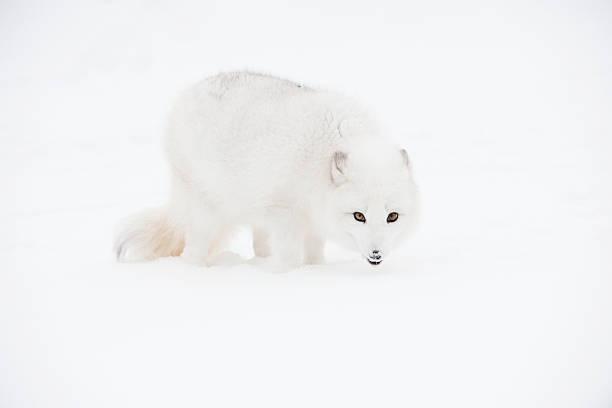arcticfox: (330, 173, 411, 270)
